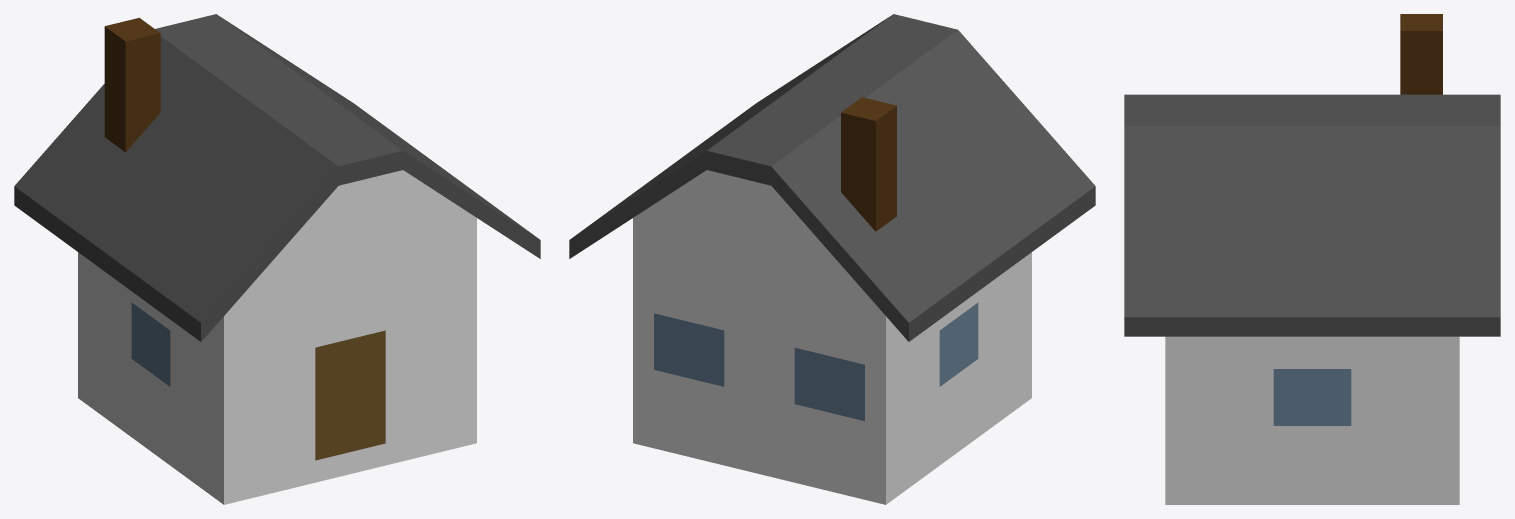
File: House.fbx
3 views of the same model, side by side, from view 1: azimuth 30°, elevation 25°; view 2: azimuth 150°, elevation 25°; view 3: azimuth 270°, elevation 25° (orthographic).
Parts seen in each view (by area): view 1: Cube; view 2: Cube; view 3: Cube.
Part boxes in pixels (left/top/right/bottom): Cube: left=14, top=14, right=540, bottom=504; Cube: left=569, top=14, right=1095, bottom=504; Cube: left=1124, top=14, right=1500, bottom=504.
Size of the model in its own units: 2.68 by 2.56 by 2.82.
